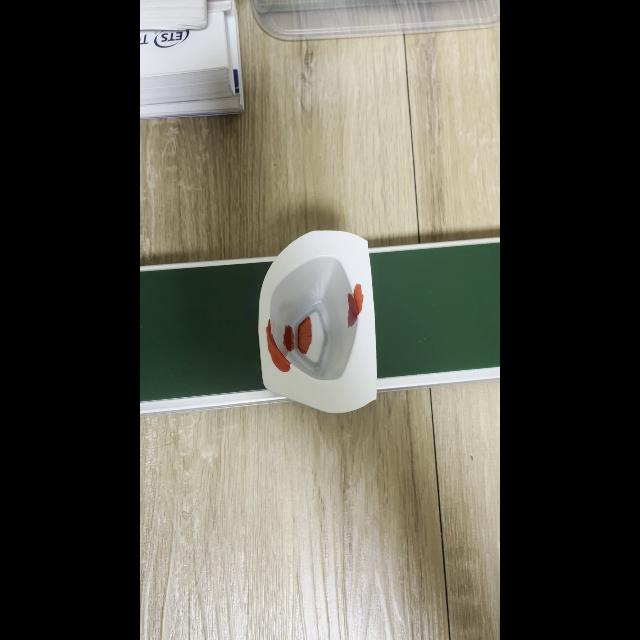dirty: (261, 260, 381, 390)
